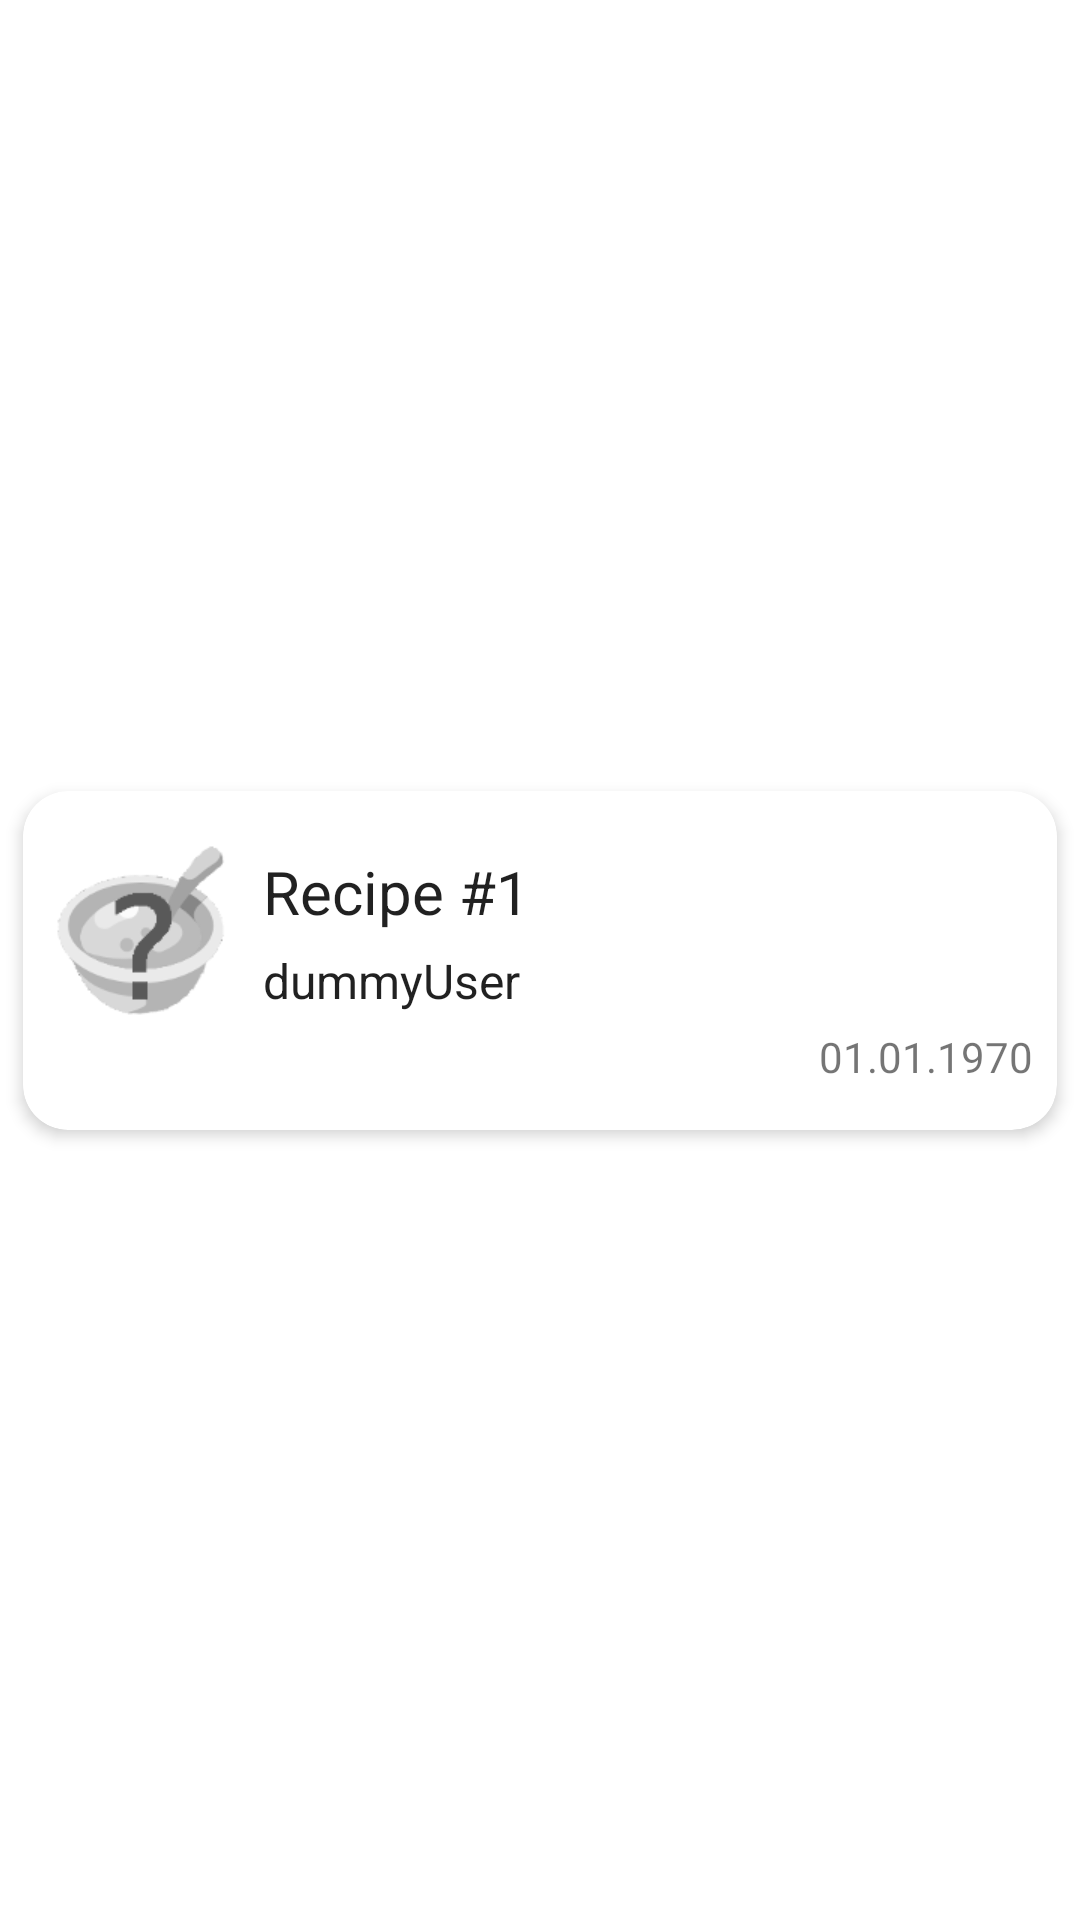

Screen size 1080x1920. Icon name, then its box in pixels as [x1, y1, x2, y2]:
unknown: [58, 847, 223, 1014]
